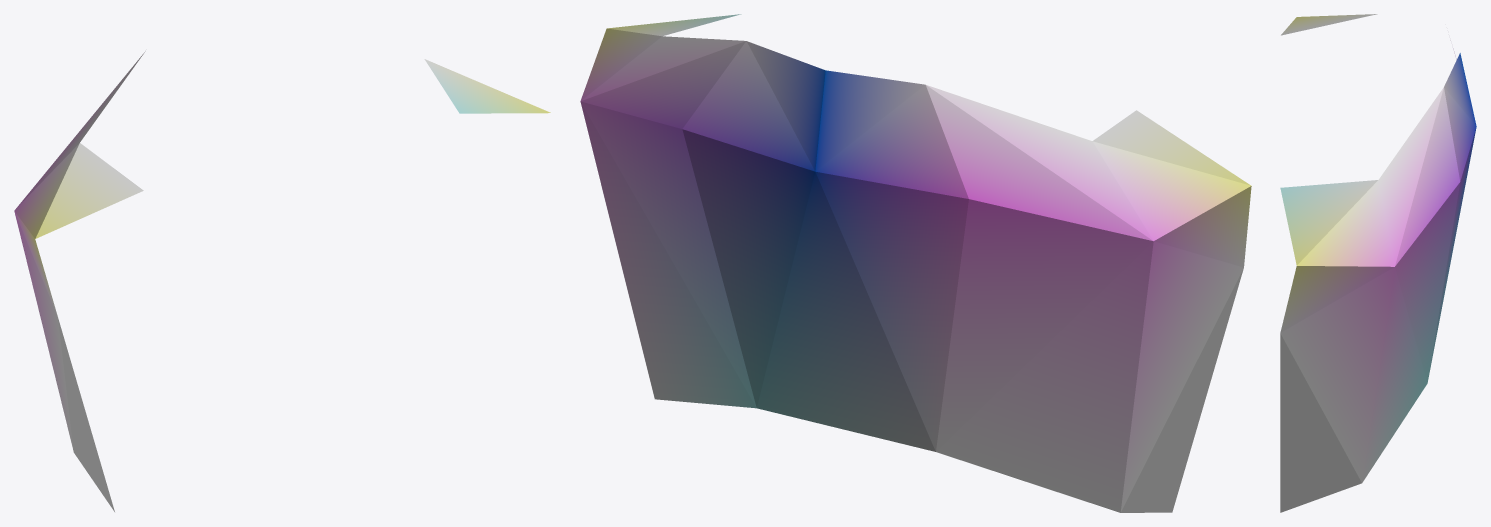
3 views of the same model, side by side, from view 1: azimuth 30°, elevation 25°; view 2: azimuth 150°, elevation 25°; view 3: azimuth 270°, elevation 25° (orthographic). The views are drawn at different scales.
Visible parts, largest first — view 1: model_1198; view 2: model_1198; view 3: model_1198.
Part boxes in pixels (bbox=[...]): model_1198: bbox=[14, 51, 550, 511]; model_1198: bbox=[580, 14, 1251, 512]; model_1198: bbox=[1280, 14, 1476, 512].
Size of the model in its own units: 36 by 25 by 12.
